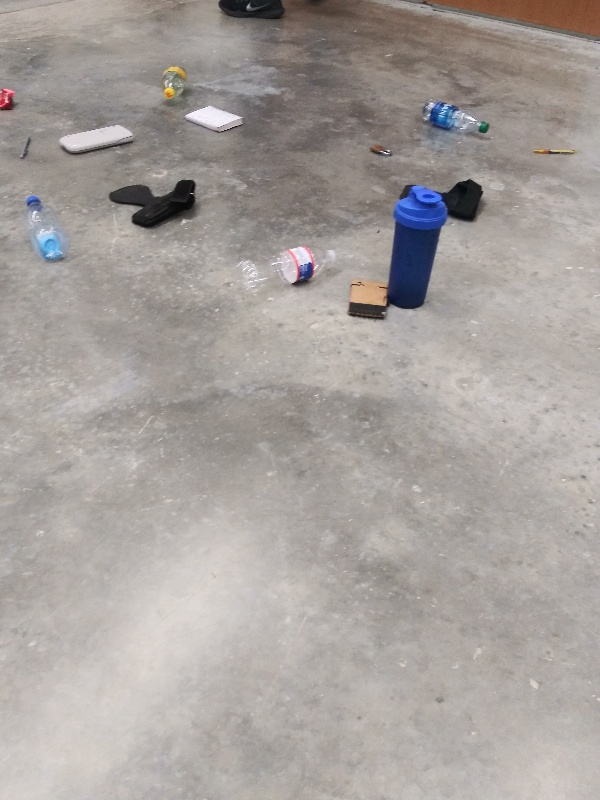bottle: (232, 242, 342, 295), (15, 192, 68, 263), (418, 97, 492, 137), (151, 61, 191, 103)
